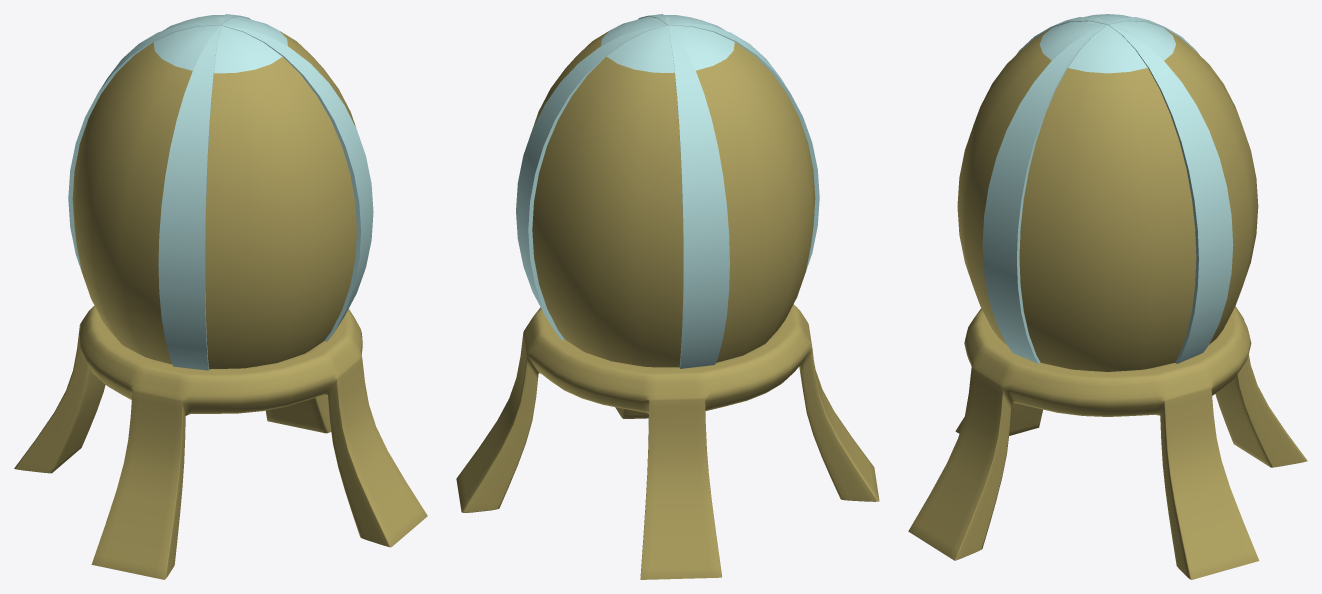
The model's file is ArtifactWhite.fbx.
3 renders of one model, left to right at view 1: azimuth 30°, elevation 25°; view 2: azimuth 150°, elevation 25°; view 3: azimuth 270°, elevation 25°, orthographic.
Parts seen in each view (by area): view 1: ArtifactGold1; view 2: ArtifactGold1; view 3: ArtifactGold1.
Part boxes in pixels (x1,y1,x2,y2): ArtifactGold1: (14,14,427,579); ArtifactGold1: (456,14,879,579); ArtifactGold1: (908,14,1307,579).
Bounding box in the file's own units: 26.5 × 34.65 × 26.57.
